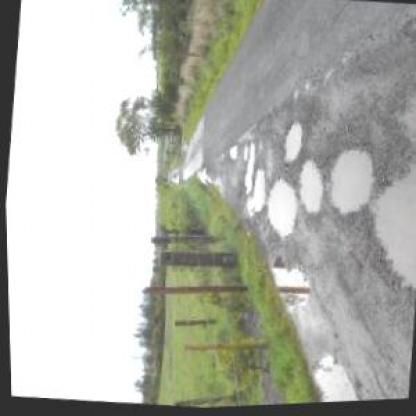pothole: (354, 151, 414, 307), (320, 144, 374, 221), (259, 176, 298, 240), (386, 79, 414, 155), (290, 160, 326, 218), (276, 118, 304, 165), (242, 168, 266, 219), (240, 140, 256, 194), (225, 144, 237, 161)
